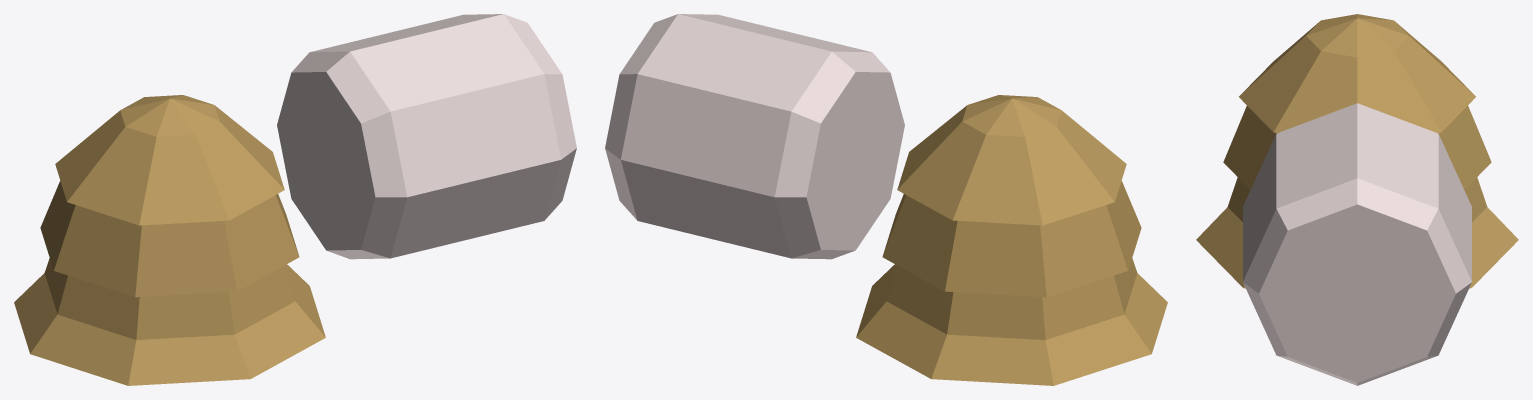
The model's file is TwoStraws.fbx.
The picture shows the model from 3 angles, left to right: view 1: azimuth 30°, elevation 25°; view 2: azimuth 150°, elevation 25°; view 3: azimuth 270°, elevation 25°; orthographic projection.
Parts seen in each view (by area): view 1: straw, Marshmallow; view 2: straw, Marshmallow; view 3: Marshmallow, straw.
Boxes of the visible parts, <box> form: straw: <box>14,95,325,385</box>; Marshmallow: <box>277,14,576,259</box>; straw: <box>856,95,1167,385</box>; Marshmallow: <box>605,14,904,259</box>; Marshmallow: <box>1243,103,1471,385</box>; straw: <box>1196,14,1518,288</box>.
Size of the model in its own units: 138 by 77.37 by 59.37.
